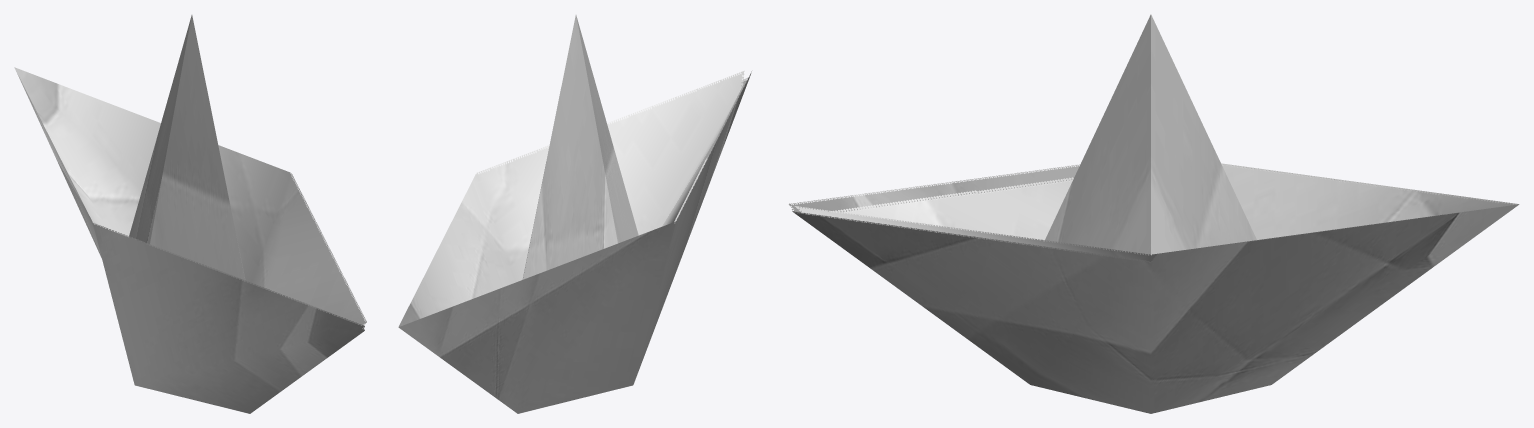
The model's file is Paperboat.FBX.
The picture shows the model from 3 angles, left to right: view 1: azimuth 30°, elevation 25°; view 2: azimuth 150°, elevation 25°; view 3: azimuth 270°, elevation 25°; orthographic projection. The views are drawn at different scales.
Parts seen in each view (by area): view 1: Paperboat007; view 2: Paperboat007; view 3: Paperboat007.
Part boxes in pixels (<box>): Paperboat007: <box>14,15,366,413</box>; Paperboat007: <box>398,15,751,413</box>; Paperboat007: <box>788,14,1519,413</box>.
Size of the model in its own units: 3.53 by 6.06 by 10.92.
